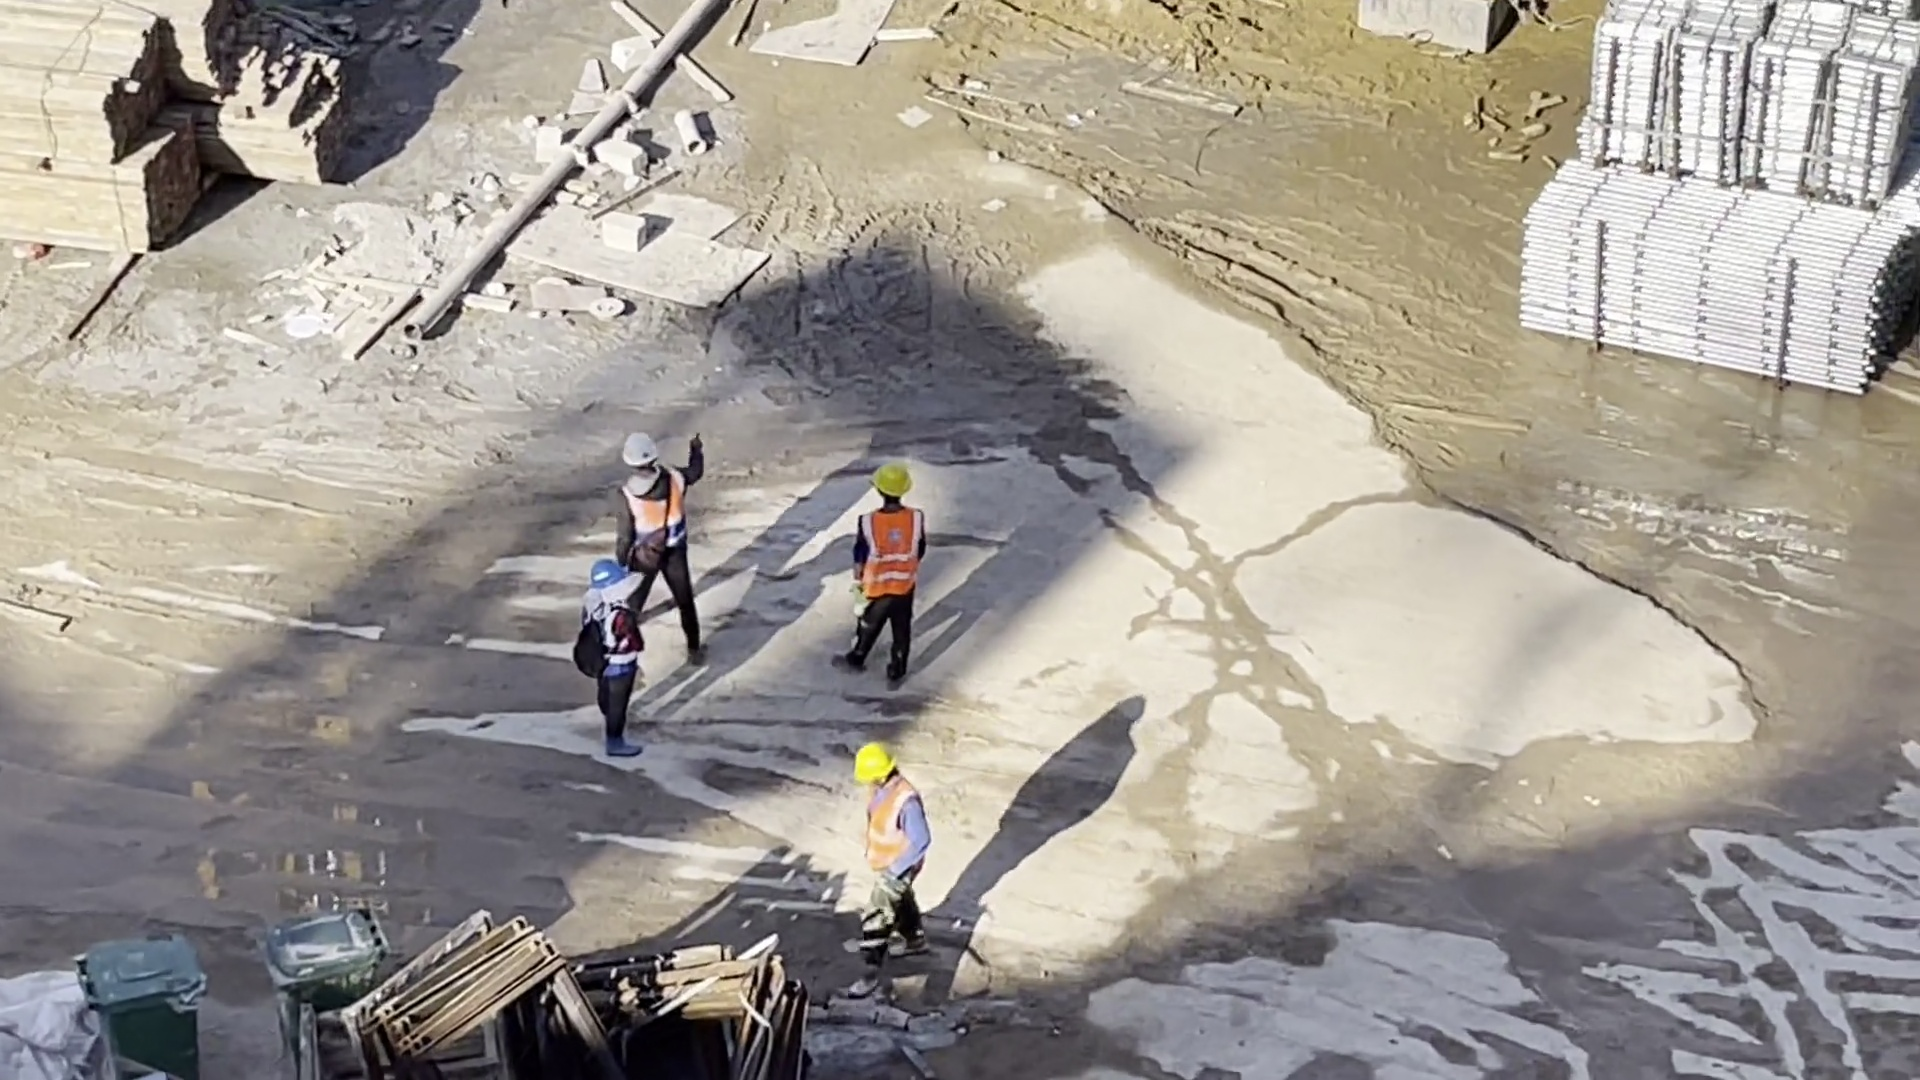helmet: (854, 741, 896, 781), (621, 431, 658, 465), (875, 464, 911, 499), (590, 560, 627, 591)
person: (615, 438, 709, 668), (852, 739, 923, 987), (851, 465, 920, 687), (579, 561, 646, 760)
scaffold: (1524, 164, 1920, 396), (1589, 1, 1920, 199)
vest: (862, 506, 921, 597), (863, 781, 917, 864), (593, 603, 640, 679), (628, 489, 690, 535)
wood: (3, 1, 251, 256)
